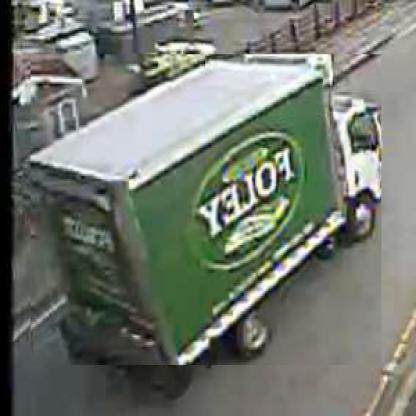truck: (30, 55, 382, 368)
